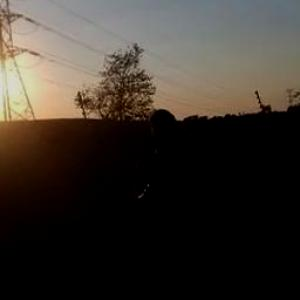follow: (131, 103, 209, 299)
